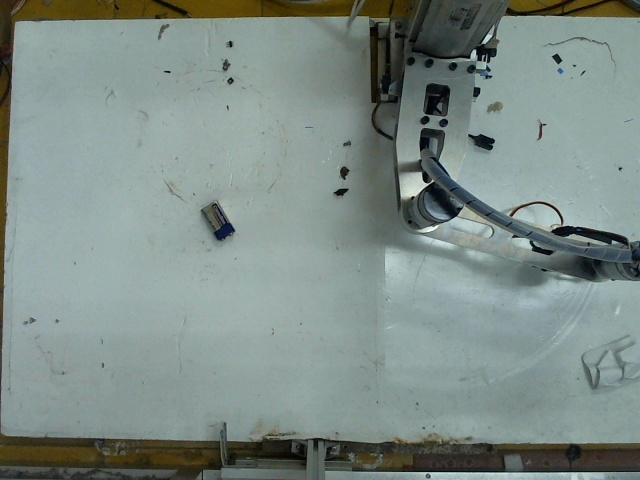battery: (196, 198, 237, 238)
